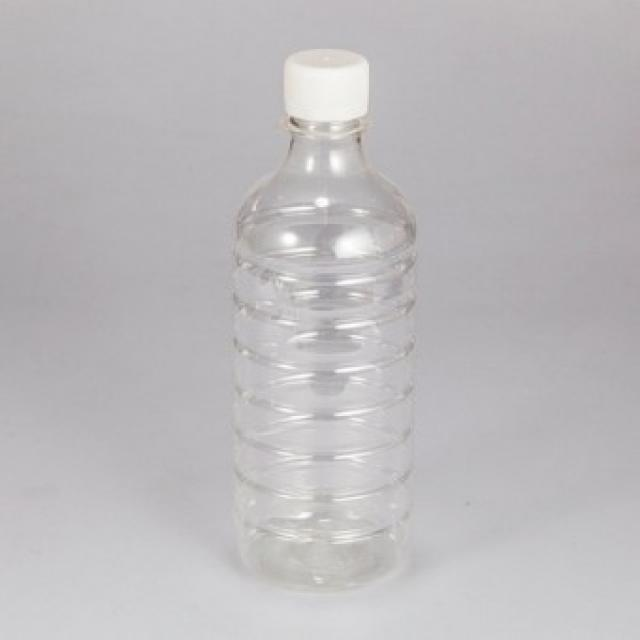plastic_bottle: (230, 49, 423, 595)
